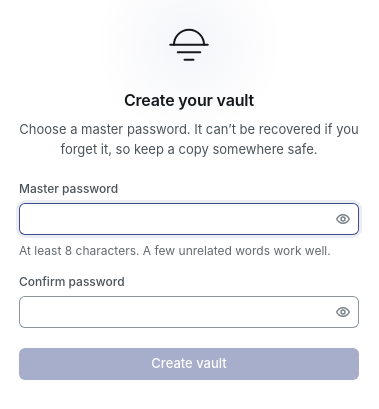
Test: CreatePasswordScreen › says the passwords don't match only once that's certain
Type "long-enough" into the password field labelled "Master password". click: x=175, y=219
box: x1=19 y1=203 x2=331 y2=235
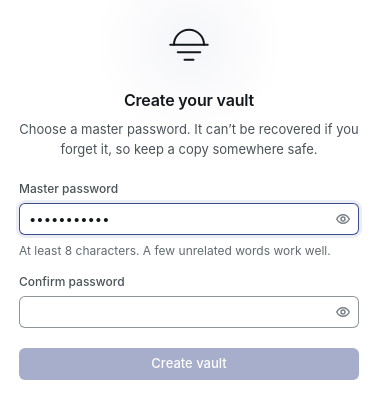
Type "long" into the password field labelled "Confirm password". click: x=175, y=312
box: x1=19 y1=296 x2=331 y2=328
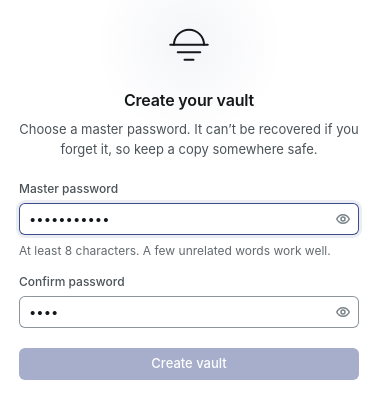
Expected: the text "The passwords don't match." is not shown
Type "long-enougX" into the password field labelled "Confirm password". click: x=175, y=312
box: x1=19 y1=296 x2=331 y2=328
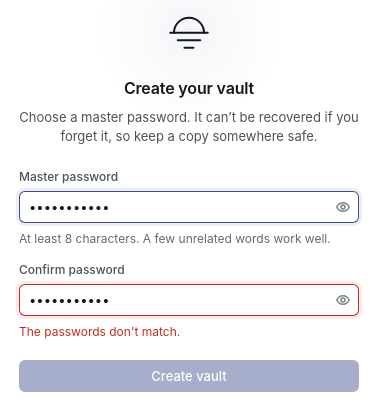
Result: the text "The passwords don't match." is shown at x1=19 y1=324 x2=180 y2=338
Type "lo" into the password field labelled "Confirm password". click: x=175, y=300
box: x1=19 y1=284 x2=331 y2=316
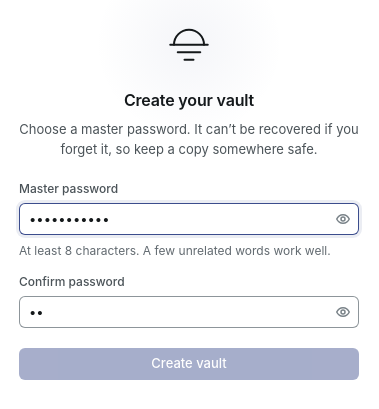
Leave the password field labelled "Confirm password", box x1=19 y1=296 x2=331 y2=328
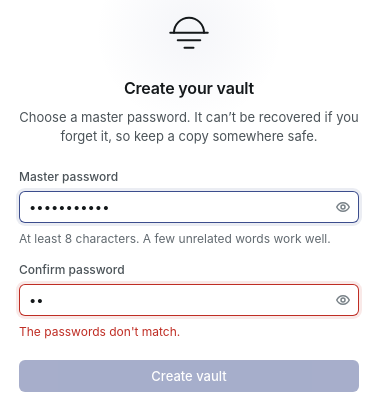
Result: the text "The passwords don't match." is shown at x1=19 y1=324 x2=180 y2=338
